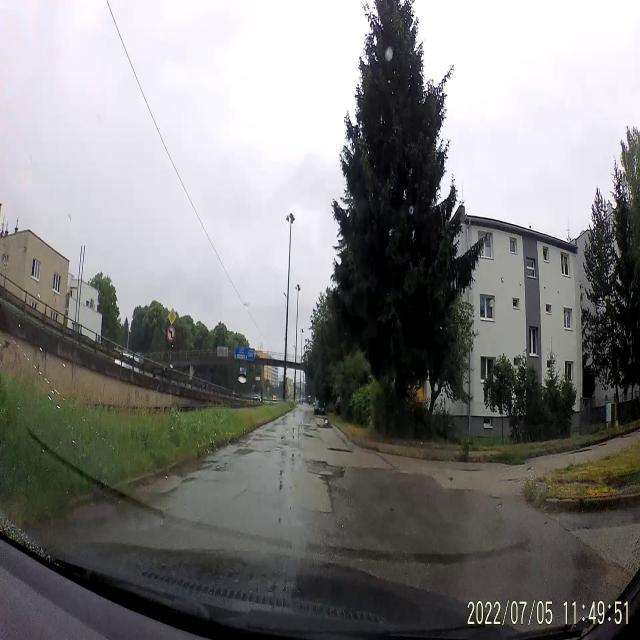Pothole: (310, 454, 346, 488), (328, 443, 354, 457), (302, 429, 318, 442)
